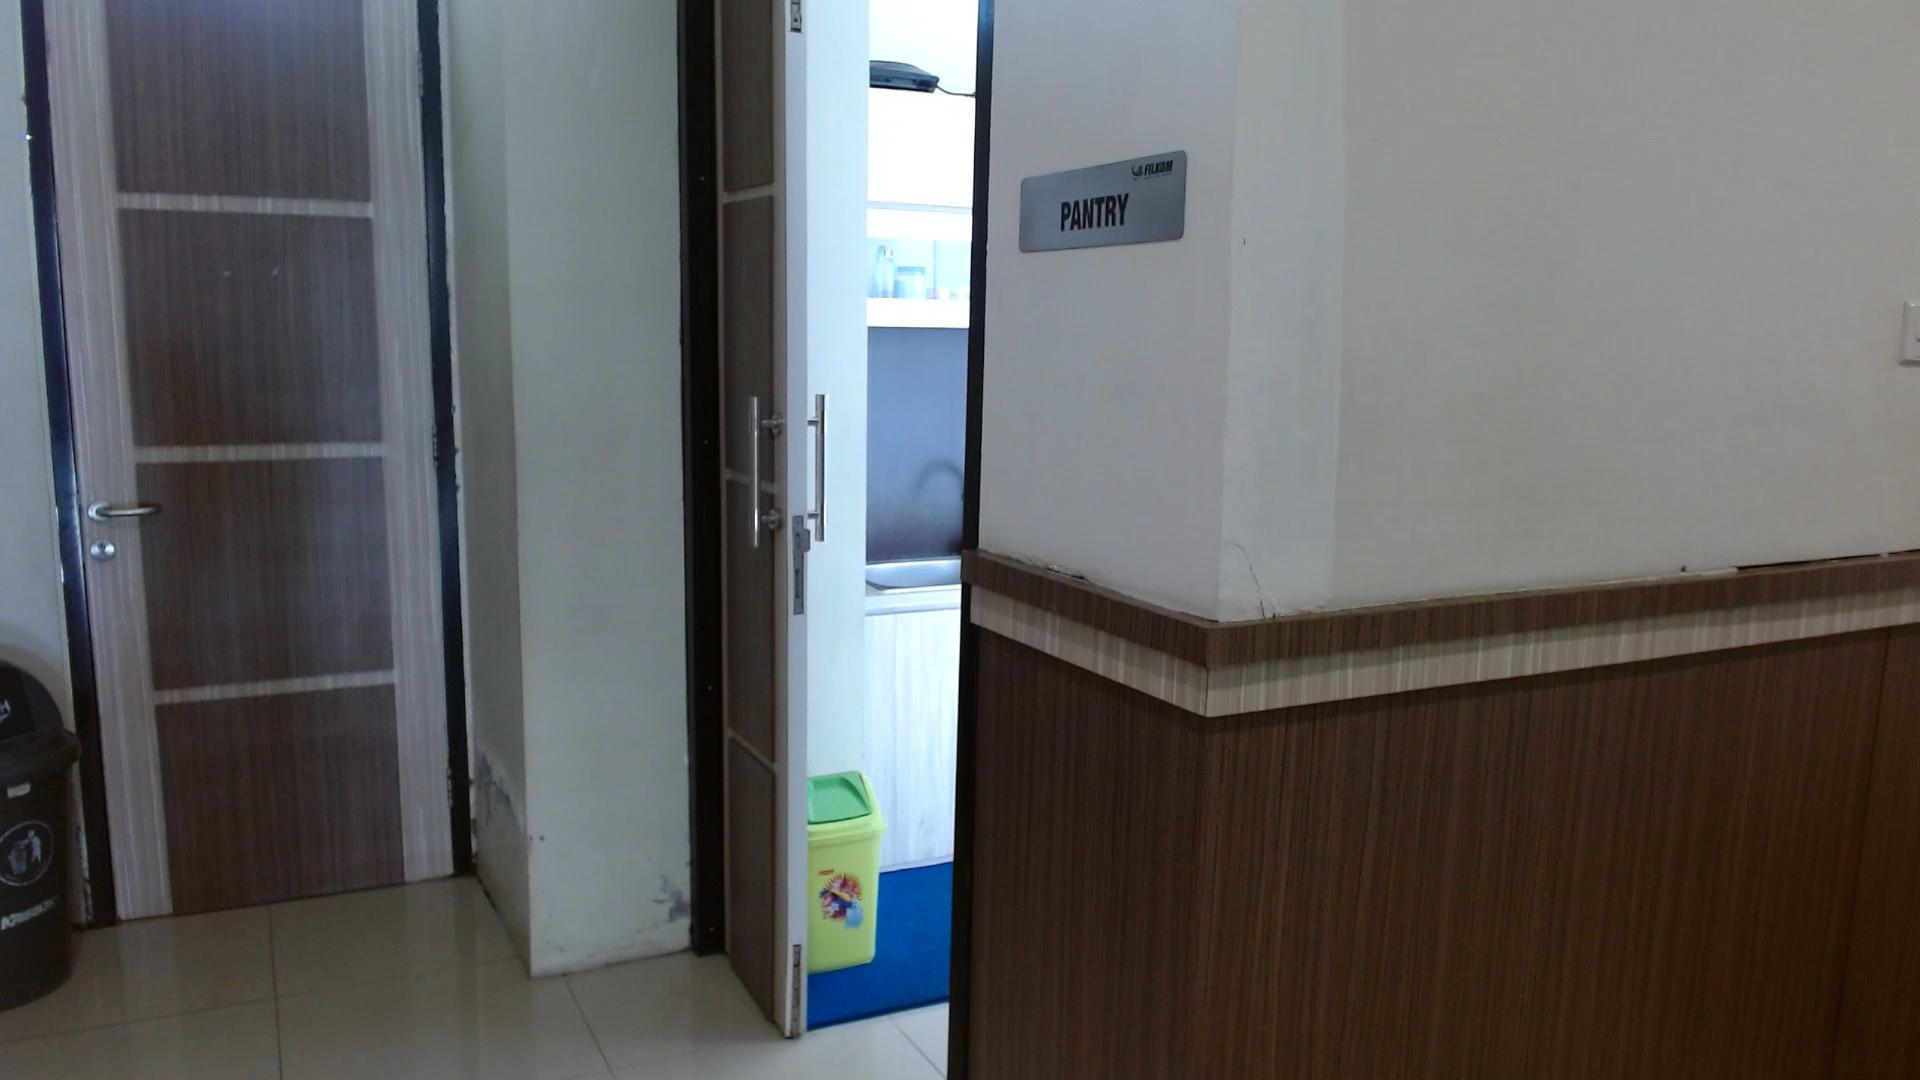plate: (1019, 148, 1187, 253)
